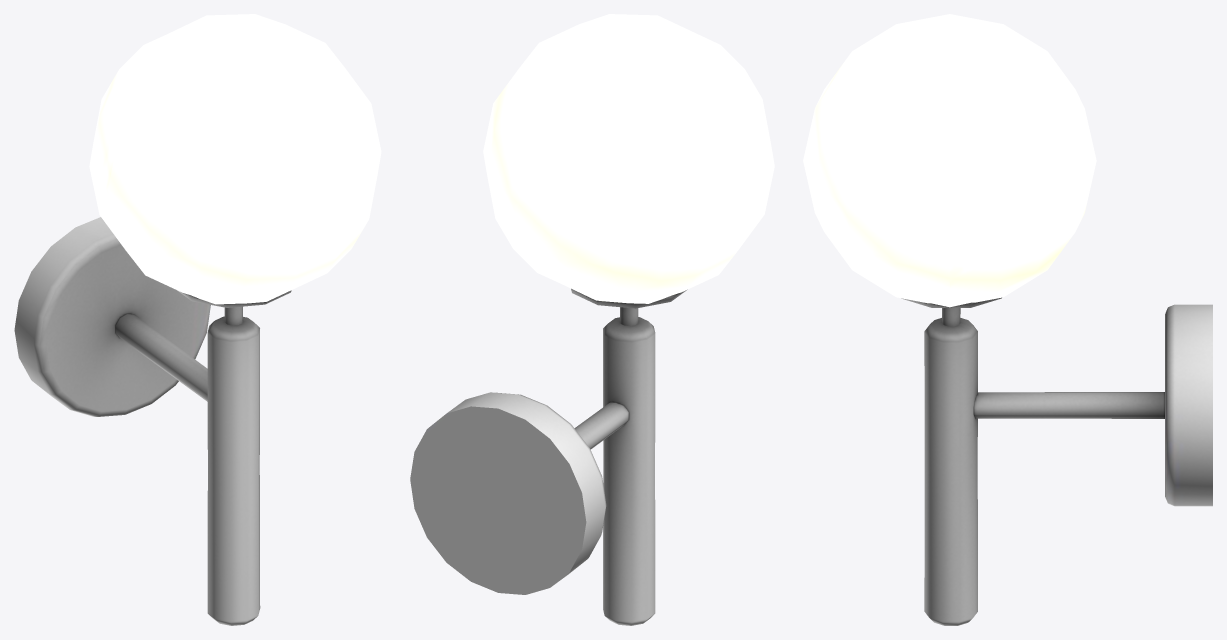
Rendered from wall-lamp-5.glb.
3 views of the same model, side by side, from view 1: azimuth 30°, elevation 25°; view 2: azimuth 150°, elevation 25°; view 3: azimuth 270°, elevation 25° (orthographic).
Visible parts, largest first — view 1: Lamp.002, Base.002; view 2: Lamp.002, Base.002; view 3: Lamp.002, Base.002.
Boxes of the visible parts, x1=… form: Lamp.002: x1=89, y1=14, x2=381, y2=304; Base.002: x1=14, y1=217, x2=291, y2=625; Lamp.002: x1=483, y1=14, x2=774, y2=303; Base.002: x1=410, y1=288, x2=687, y2=625; Lamp.002: x1=803, y1=14, x2=1096, y2=307; Base.002: x1=901, y1=297, x2=1212, y2=625.
Size of the model in its own units: 0.1763 by 0.3939 by 0.2461.
1 material, 1 textured.
